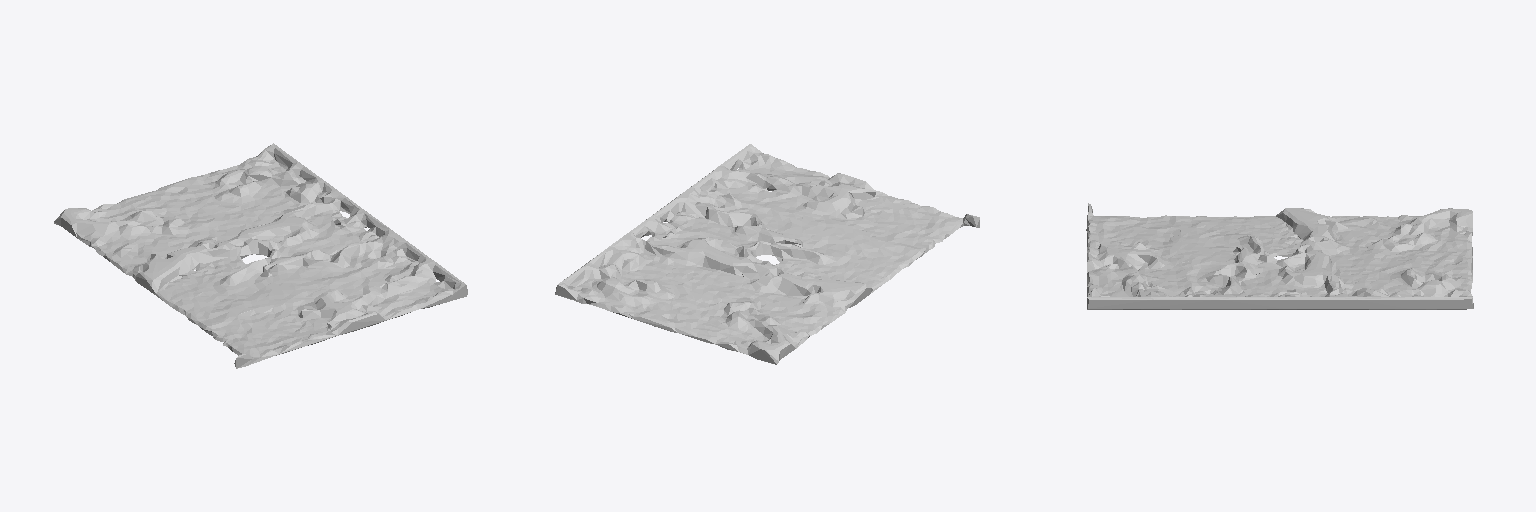
3 renders of one model, left to right at view 1: azimuth 30°, elevation 25°; view 2: azimuth 150°, elevation 25°; view 3: azimuth 270°, elevation 25°, orthographic.
Visible parts, largest first — view 1: Liquid_Domain; view 2: Liquid_Domain; view 3: Liquid_Domain.
Part boxes in pixels (x1,y1,x2,y2): Liquid_Domain: (54, 143, 467, 368); Liquid_Domain: (555, 144, 979, 364); Liquid_Domain: (1086, 203, 1473, 309).
Bounding box in the file's own units: 116 × 13.8 × 168.